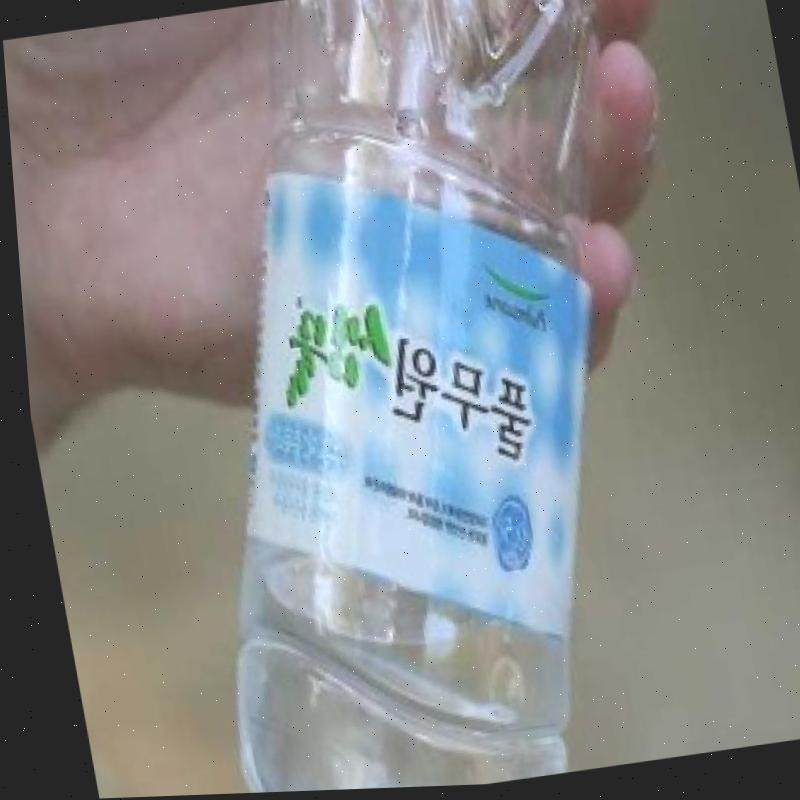botella: (108, 0, 727, 797)
